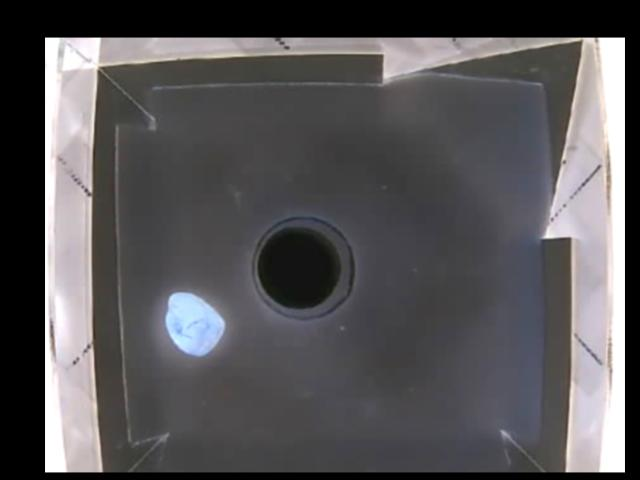Cup: (252, 216, 356, 321)
Pebble: (161, 291, 223, 359)
